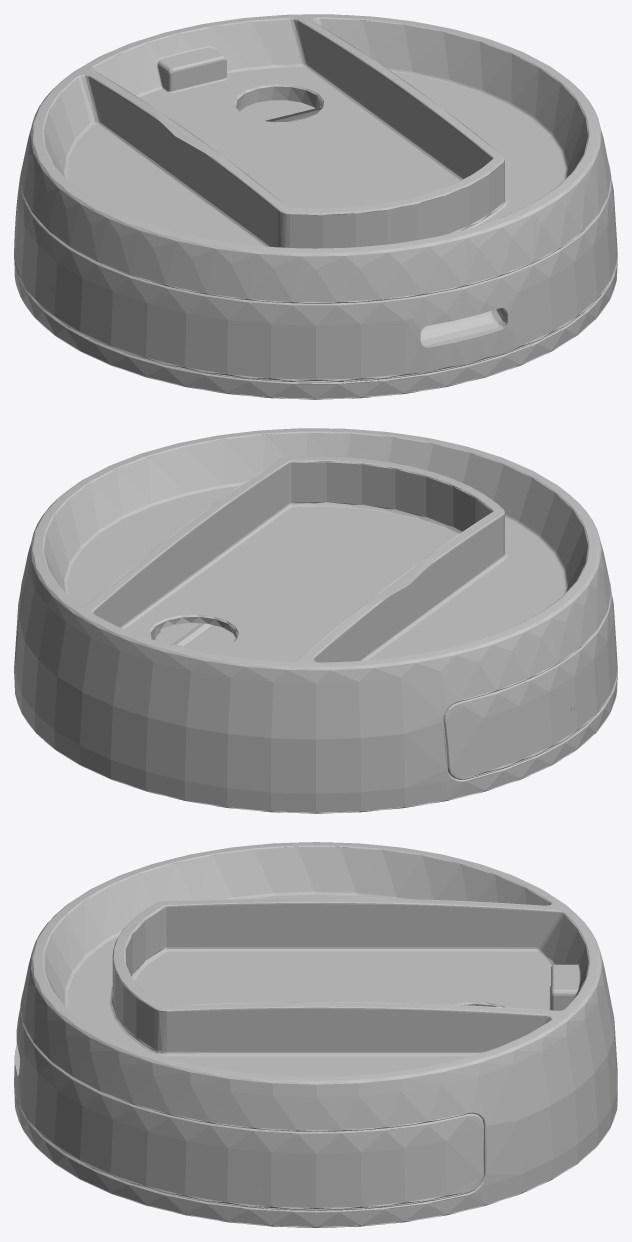
Rendered from base_tex.dae.
3 views of the same model, one above another, from view 1: azimuth 30°, elevation 25°; view 2: azimuth 150°, elevation 25°; view 3: azimuth 270°, elevation 25° (orthographic).
Visible parts, largest first — view 1: Main_Link; view 2: Main_Link; view 3: Main_Link.
Boxes of the visible parts, x1=… form: Main_Link: x1=14, y1=14, x2=617, y2=399; Main_Link: x1=14, y1=428, x2=617, y2=813; Main_Link: x1=14, y1=842, x2=617, y2=1227.
Bounding box in the file's own units: 0.3606 × 0.3602 × 0.1016.
Materials: 1 (1 with a texture image).
